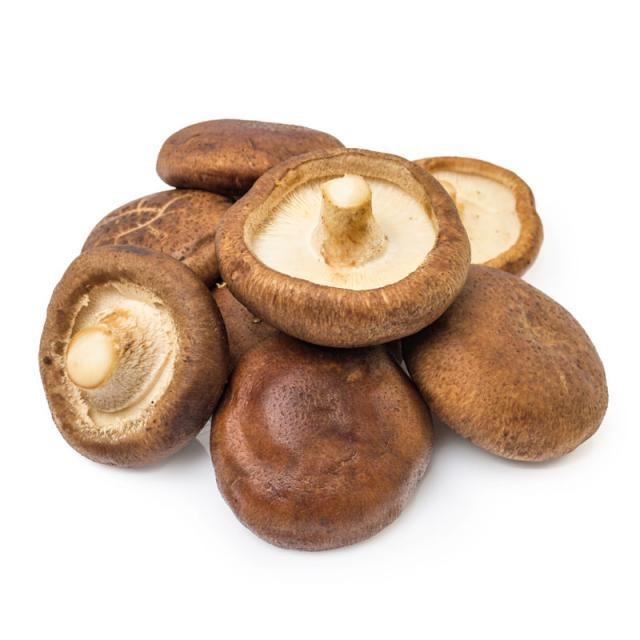Lentinus edodes: (215, 145, 471, 348), (212, 336, 431, 548), (36, 250, 226, 468), (405, 269, 608, 463), (392, 158, 546, 272), (79, 186, 249, 278), (158, 116, 342, 188)
